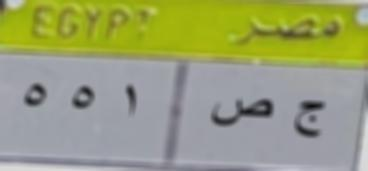1: (120, 79, 144, 124)
5: (14, 77, 54, 113), (64, 80, 97, 116)
jeem: (291, 90, 328, 142)
saad: (205, 93, 276, 134)
